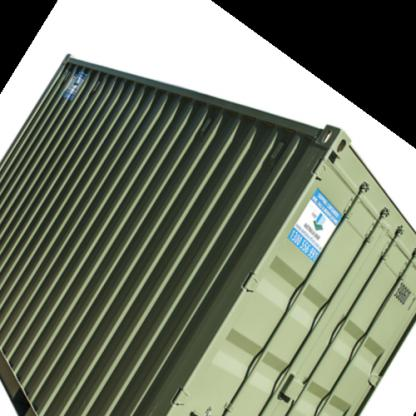Damage: (115, 89, 155, 120)
